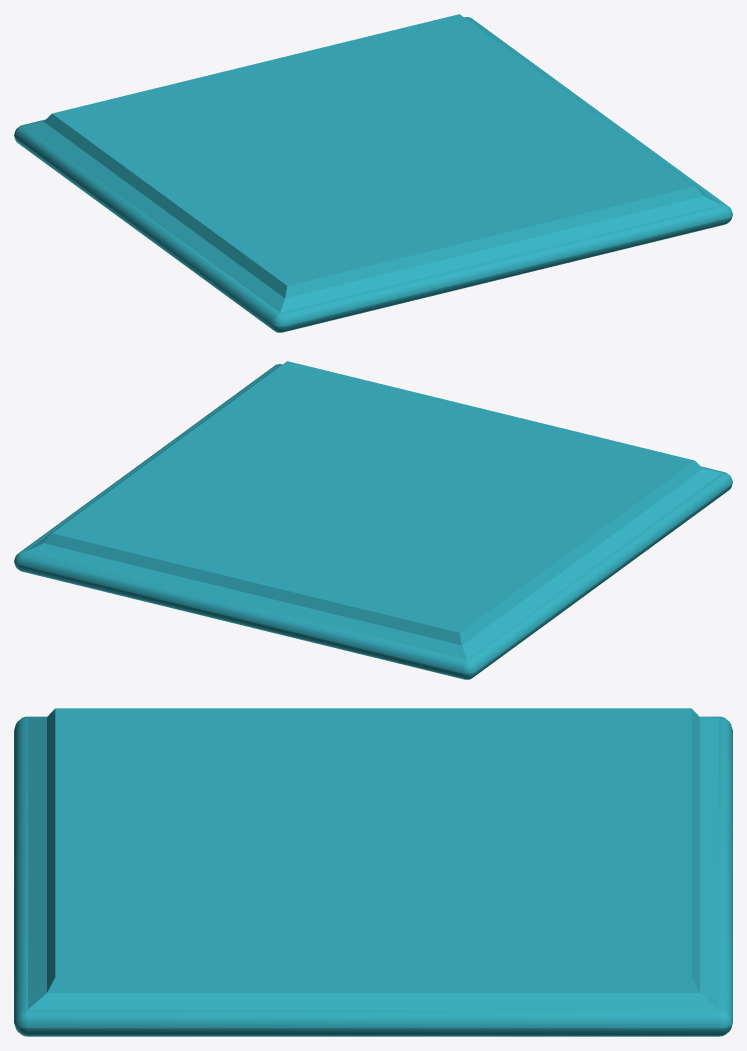
File: board_bottom.glb
3 views of the same model, one above another, from view 1: azimuth 30°, elevation 25°; view 2: azimuth 150°, elevation 25°; view 3: azimuth 270°, elevation 25° (orthographic). The views are drawn at different scales.
Parts seen in each view (by area): view 1: ChamferBox001; view 2: ChamferBox001; view 3: ChamferBox001.
Part boxes in pixels (<box>): ChamferBox001: <box>14,14,732,332</box>; ChamferBox001: <box>14,361,732,679</box>; ChamferBox001: <box>14,708,732,1036</box>.
Bounding box in the file's own units: 17.78 × 1.27 × 17.78.
